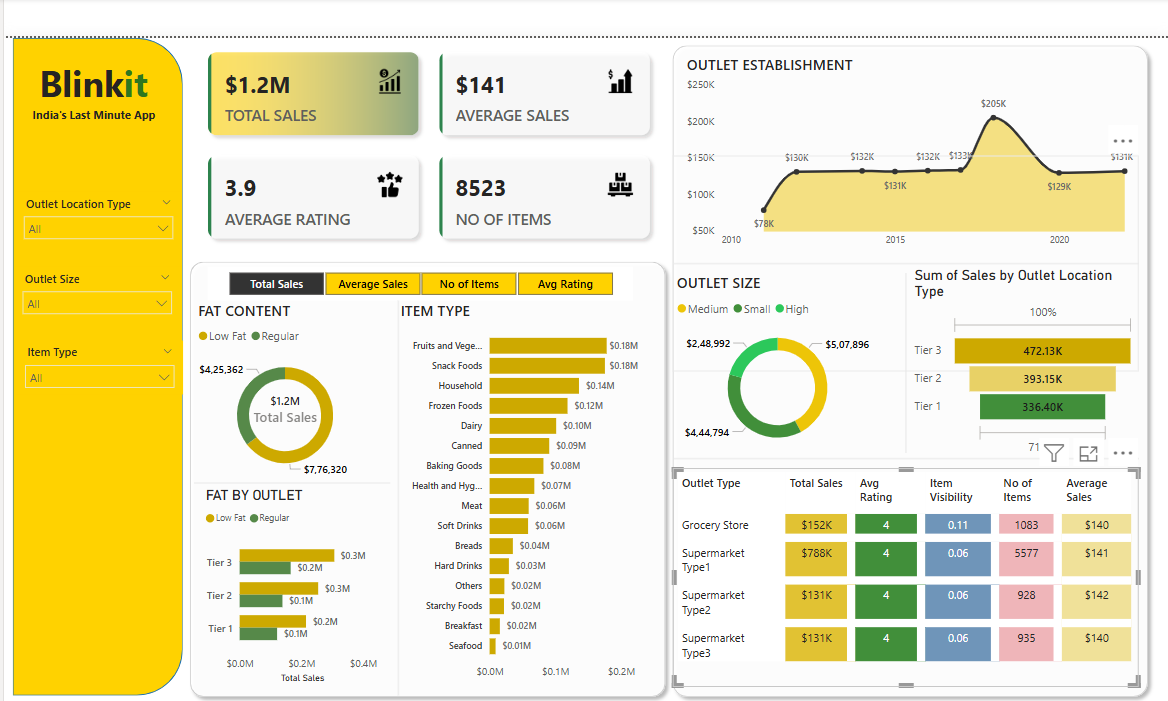

This screenshot's page, from the dashboard's own definition file:
{"tool":"powerbi","page":{"name":"Page 1","canvas":[1400,800],"ordinal":0},"visuals":[{"type":"shape","box":[10.5,0,204.1,789.5],"z":0},{"type":"textbox","box":[10.5,19.5,193.6,70.5],"z":1000},{"type":"textbox","box":[24,78,168.1,30],"z":2000},{"type":"cardVisual","fields":{"Data":["BlinkIT Grocery Data.Total Sales","BlinkIT Grocery Data.Average Sales","BlinkIT Grocery Data.Avg Rating","BlinkIT Grocery Data.No of Items"]},"box":[228.1,0,565.8,259.6],"z":3000},{"type":"shape","box":[214.6,259.6,588.3,540.3],"z":4000},{"type":"donutChart","title":"FAT CONTENT","fields":{"Y":["BlinkIT Grocery Data.Total Sales"],"Category":["BlinkIT Grocery Data.Item Fat Content"]},"box":[228.1,315.2,219.1,223.6],"z":5000},{"type":"slicer","fields":{"Values":["Metrics.Metrics"]},"box":[244.6,274.7,510.3,40.5],"z":6000},{"type":"cardVisual","fields":{"Data":["BlinkIT Grocery Data.Total Sales"]},"box":[271.7,400.7,132.1,90.1],"z":7000},{"type":"clusteredBarChart","title":"FAT BY OUTLET","fields":{"Y":["BlinkIT Grocery Data.Total Sales"],"Category":["BlinkIT Grocery Data.Outlet Location Type"],"Series":["BlinkIT Grocery Data.Item Fat Content"]},"box":[237.1,538.8,219.1,240.1],"z":8000},{"type":"shape","box":[228.1,516.3,235.6,36],"z":9000},{"type":"shape","box":[447.3,315.2,52.5,474.3],"z":10000},{"type":"barChart","title":"ITEM TYPE","fields":{"Y":["BlinkIT Grocery Data.Total Sales"],"Category":["BlinkIT Grocery Data.Item Type"]},"box":[471.3,315.2,312.2,463.8],"z":11000},{"type":"shape","box":[794,0,588.3,800],"z":12000},{"type":"lineChart","title":"OUTLET ESTABLISHMENT","fields":{"Y":["BlinkIT Grocery Data.Total Sales"],"Category":["BlinkIT Grocery Data.Outlet Establishment Year"]},"box":[815,19.5,547.8,240.1],"z":13000},{"type":"shape","box":[803,141.1,559.8,259.6],"z":14000},{"type":"donutChart","title":"OUTLET SIZE","fields":{"Y":["BlinkIT Grocery Data.Total Sales"],"Category":["BlinkIT Grocery Data.Outlet Size"]},"box":[803,282.2,252.1,223.6],"z":15000},{"type":"shape","box":[965.1,282.2,235.6,216.1],"z":16000},{"type":"funnel","fields":{"Y":["Sum(BlinkIT Grocery Data.Sales)"],"Category":["BlinkIT Grocery Data.Outlet Location Type"]},"box":[1088.1,274.7,274.7,231.1],"z":17000},{"type":"shape","box":[804.5,333.2,558.3,343.7],"z":18000},{"type":"tableEx","fields":{"Values":["BlinkIT Grocery Data.Outlet Type","BlinkIT Grocery Data.Total Sales","BlinkIT Grocery Data.Avg Rating","Avg(BlinkIT Grocery Data.Item Visibility)","BlinkIT Grocery Data.No of Items","BlinkIT Grocery Data.Average Sales"]},"box":[803,516.3,559.8,262.7],"z":19000},{"type":"slicer","fields":{"Values":["BlinkIT Grocery Data.Outlet Location Type"]},"box":[13.5,184.6,199.6,64.5],"z":20000},{"type":"slicer","fields":{"Values":["BlinkIT Grocery Data.Outlet Size"]},"box":[12,274.7,199.6,64.5],"z":21000},{"type":"slicer","fields":{"Values":["BlinkIT Grocery Data.Item Type"]},"box":[15,363.2,199.6,64.5],"z":22000}]}

Visuals, with their boxes on the page's 1400x800 design canvas (x1, y1, x2, y2). These are canvas units, not pixel positions in the 1168x701 screenshot, which may show the page scaled, cropped or inside an application window:
shape: [10,0,215,790]
textbox: [10,20,204,90]
textbox: [24,78,192,108]
cardVisual - BlinkIT Grocery Data.Total Sales x BlinkIT Grocery Data.Average Sales: [228,0,794,260]
shape: [215,260,803,800]
"FAT CONTENT" donutChart: [228,315,447,539]
slicer - Metrics.Metrics: [245,275,755,315]
cardVisual - BlinkIT Grocery Data.Total Sales: [272,401,404,491]
"FAT BY OUTLET" clusteredBarChart: [237,539,456,779]
shape: [228,516,464,552]
shape: [447,315,500,790]
"ITEM TYPE" barChart: [471,315,784,779]
shape: [794,0,1382,800]
"OUTLET ESTABLISHMENT" lineChart: [815,20,1363,260]
shape: [803,141,1363,401]
"OUTLET SIZE" donutChart: [803,282,1055,506]
shape: [965,282,1201,498]
funnel - Sum(BlinkIT Grocery Data.Sales) x BlinkIT Grocery Data.Outlet Location Type: [1088,275,1363,506]
shape: [804,333,1363,677]
tableEx - BlinkIT Grocery Data.Outlet Type x BlinkIT Grocery Data.Total Sales: [803,516,1363,779]
slicer - BlinkIT Grocery Data.Outlet Location Type: [14,185,213,249]
slicer - BlinkIT Grocery Data.Outlet Size: [12,275,212,339]
slicer - BlinkIT Grocery Data.Item Type: [15,363,215,428]
